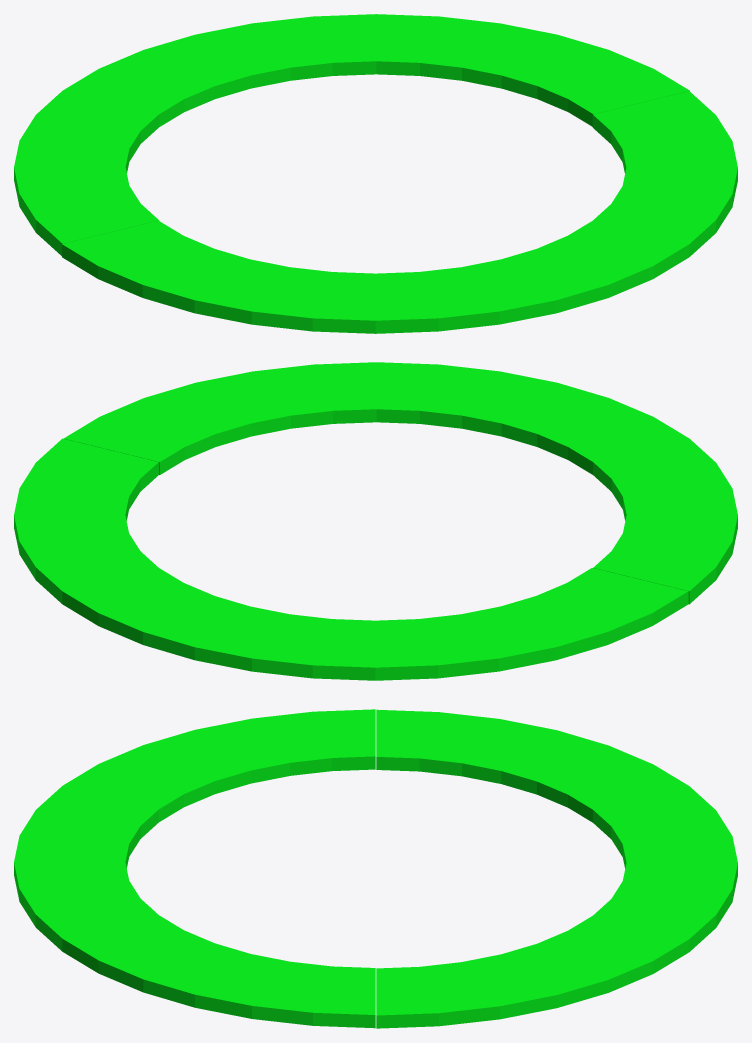
Rendered from Circle_khy.fbx.
The picture shows the model from 3 angles, top to bottom: view 1: azimuth 30°, elevation 25°; view 2: azimuth 150°, elevation 25°; view 3: azimuth 270°, elevation 25°; orthographic projection.
Visible parts, largest first — view 1: Arch__3_, Arch__2_; view 2: Arch__2_, Arch__3_; view 3: Arch__3_, Arch__2_.
Part boxes in pixels (x1,y1,x2,y2): Arch__3_: (62,91,737,333); Arch__2_: (14,14,689,255); Arch__2_: (14,438,688,680); Arch__3_: (63,362,737,604); Arch__3_: (14,709,375,1028); Arch__2_: (376,709,737,1028).
Size of the model in its own units: 4009 by 80.07 by 4006.
